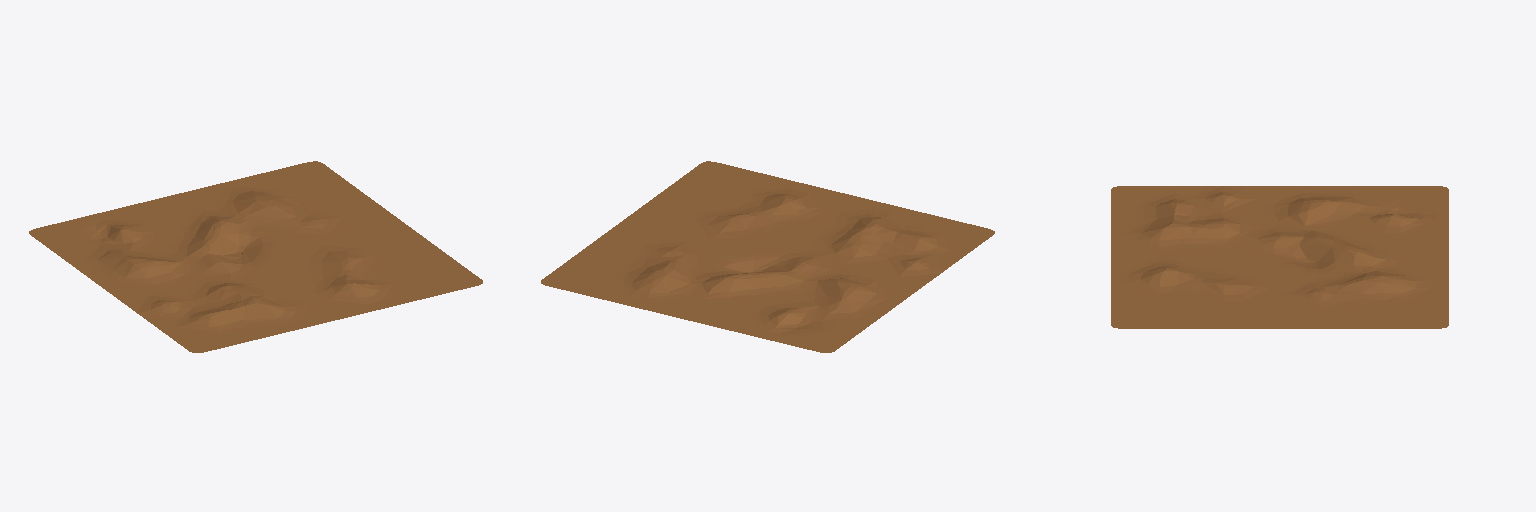
Rendered from NewGround01.obj.
3 views of the same model, side by side, from view 1: azimuth 30°, elevation 25°; view 2: azimuth 150°, elevation 25°; view 3: azimuth 270°, elevation 25° (orthographic).
Visible parts, largest first — view 1: Plane; view 2: Plane; view 3: Plane.
Part boxes in pixels (left/top/right/bottom): Plane: left=29, top=161, right=482, bottom=352; Plane: left=541, top=161, right=994, bottom=352; Plane: left=1111, top=186, right=1448, bottom=328.
Size of the model in its own units: 200 by 7.66 by 200.